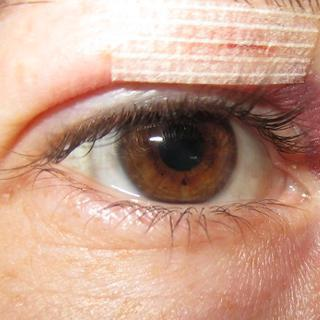iris: (116, 83, 241, 208)
